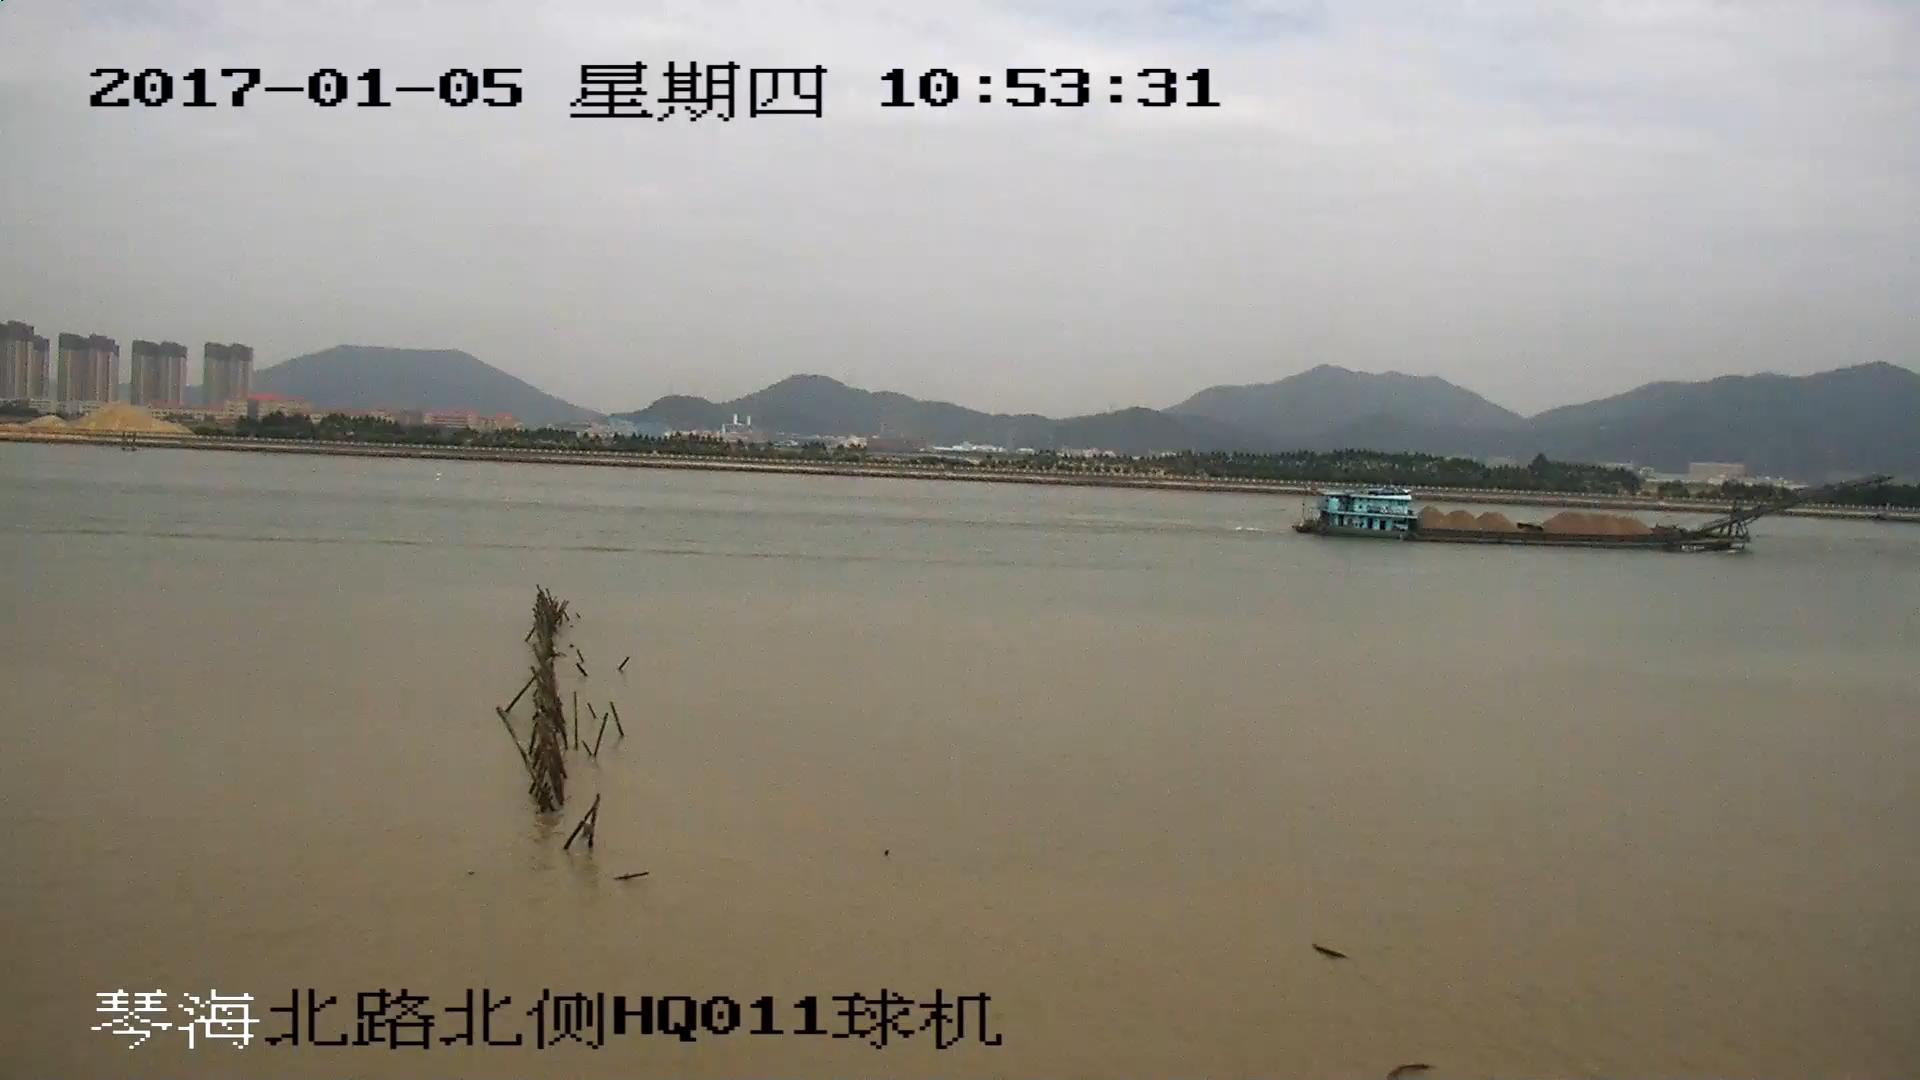ore carrier: (1300, 474, 1884, 552)
